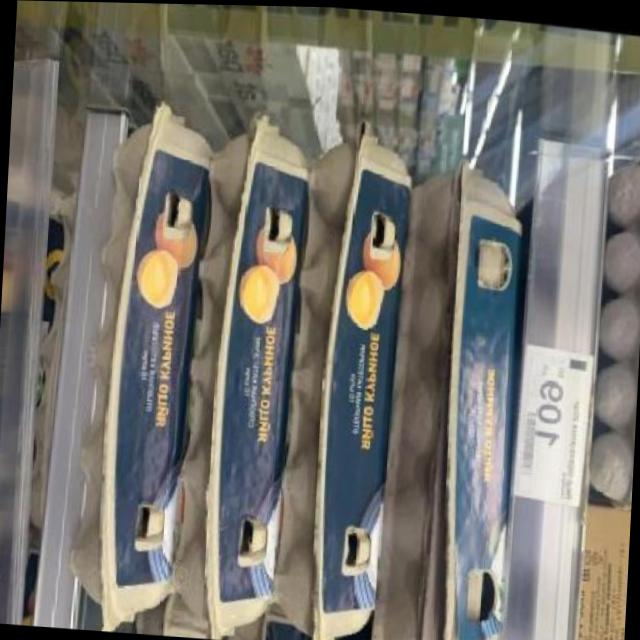Egg: (373, 150, 536, 640), (72, 96, 218, 637), (170, 109, 314, 640), (274, 117, 414, 640), (132, 605, 225, 639)
